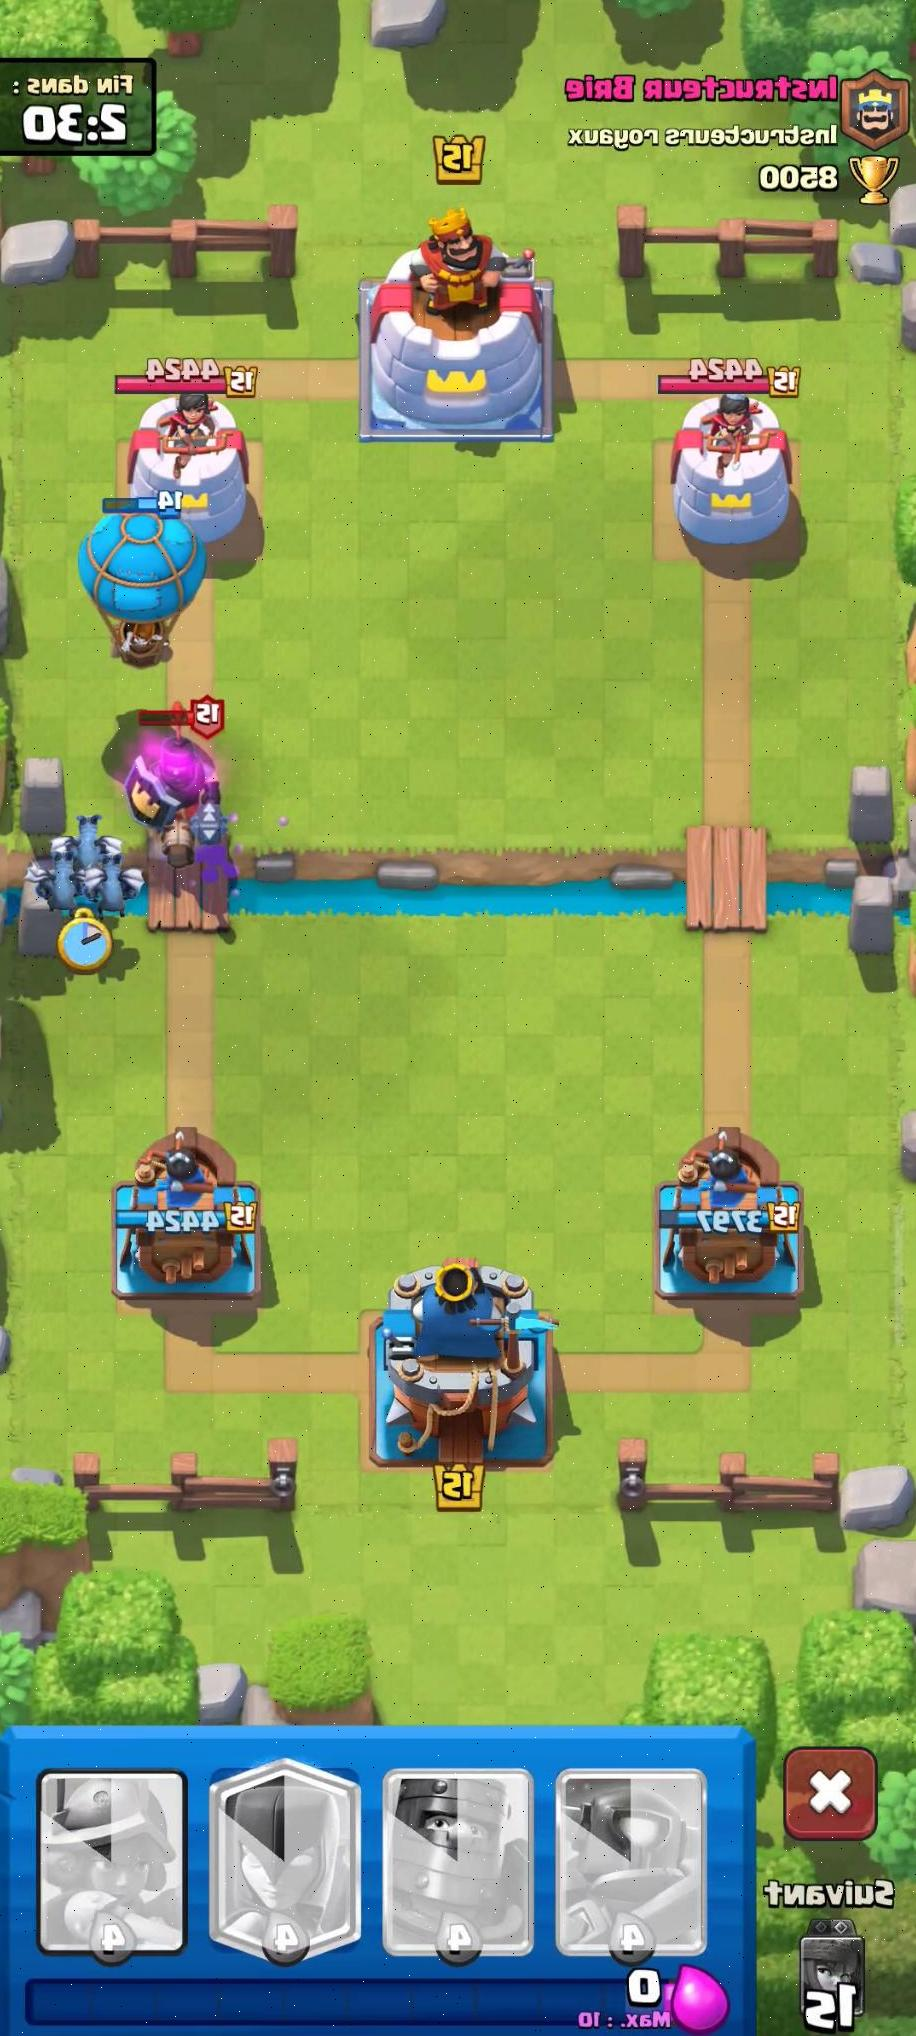enemy_dark_prince: (124, 698, 248, 866)
player_balloon: (67, 491, 215, 668)
player_minions: (18, 839, 88, 915), (85, 844, 151, 919), (60, 809, 121, 877)
